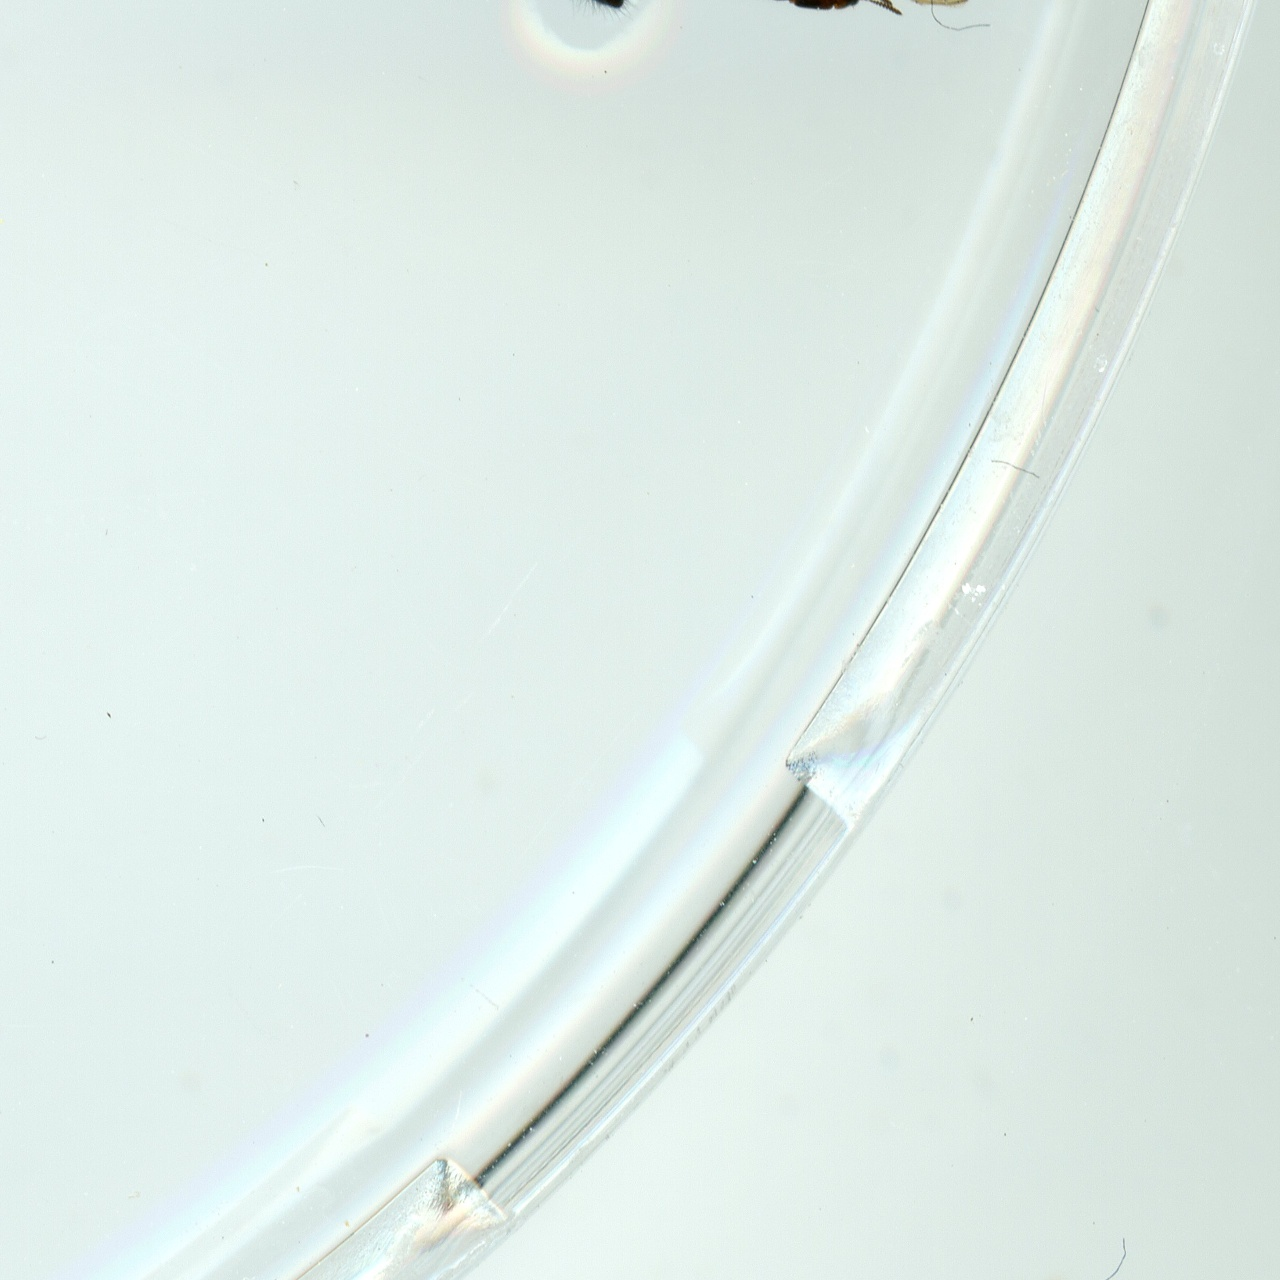arthropod: (713, 0, 921, 34)
